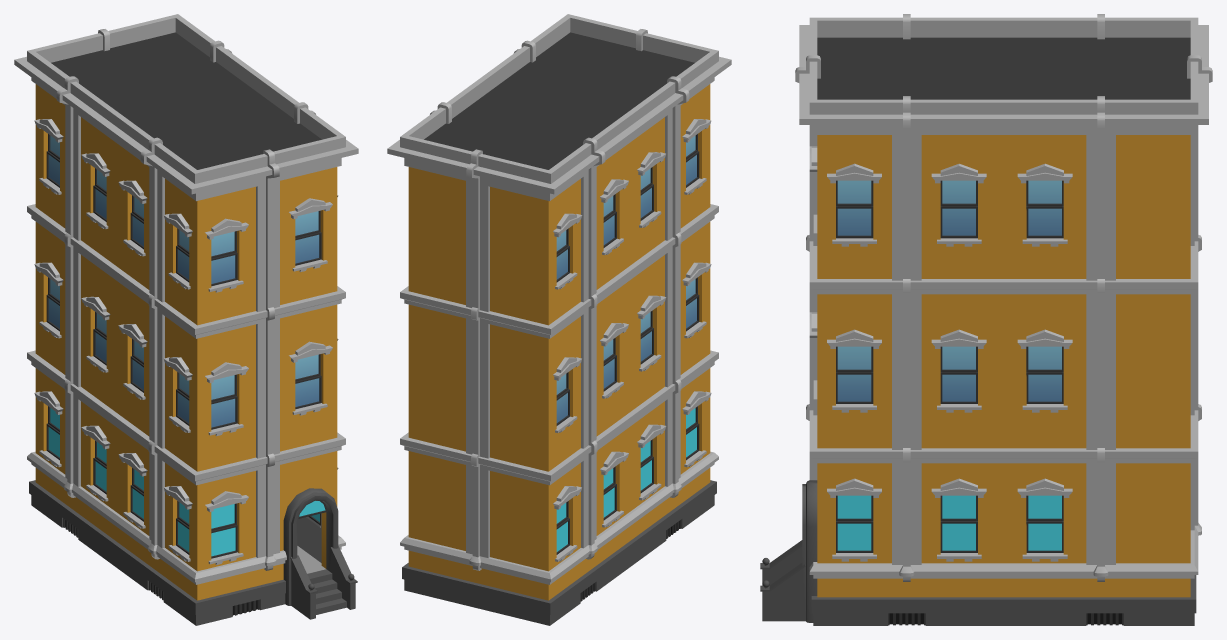
Rendered from SM_Buildings_House_01_V1.fbx.
The picture shows the model from 3 angles, left to right: view 1: azimuth 30°, elevation 25°; view 2: azimuth 150°, elevation 25°; view 3: azimuth 270°, elevation 25°; orthographic projection. The views are drawn at different scales.
Parts seen in each view (by area): view 1: SM_Buildings_House_01_V1; view 2: SM_Buildings_House_01_V1; view 3: SM_Buildings_House_01_V1.
Boxes of the visible parts, x1,y1,x2,y2 form: SM_Buildings_House_01_V1: [14, 14, 358, 625]; SM_Buildings_House_01_V1: [387, 14, 731, 625]; SM_Buildings_House_01_V1: [760, 14, 1212, 625].
Size of the model in its own units: 6.17 by 15.6 by 12.1.
